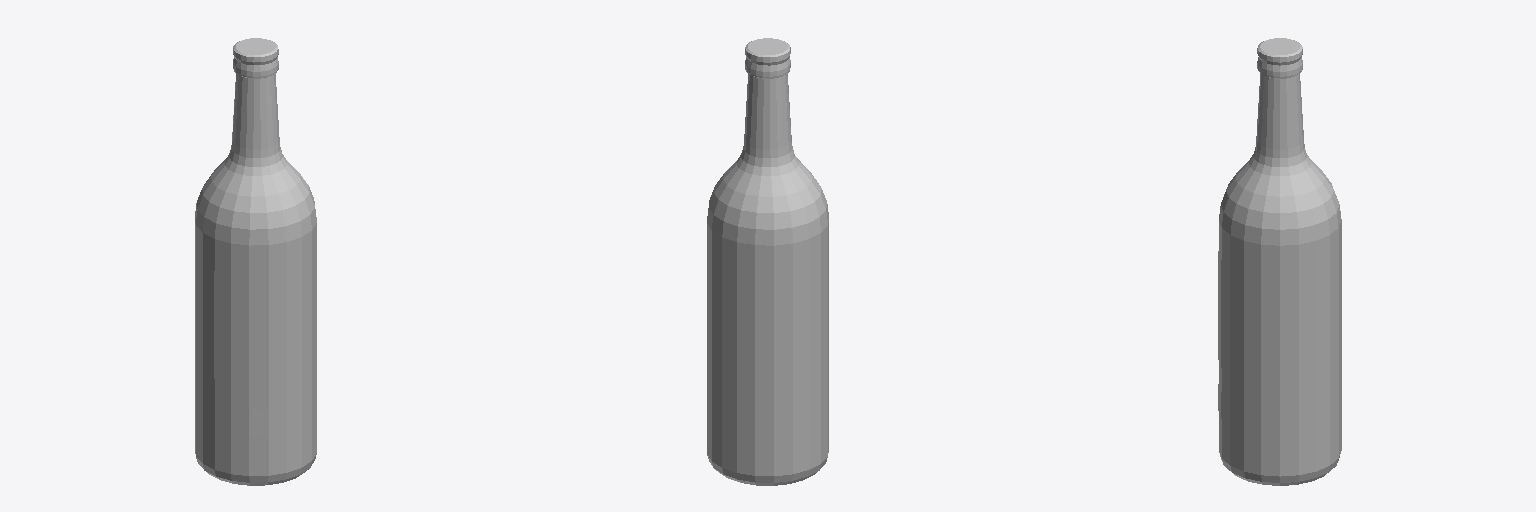
The model's file is wineBottle2.obj.
3 views of the same model, side by side, from view 1: azimuth 30°, elevation 25°; view 2: azimuth 150°, elevation 25°; view 3: azimuth 270°, elevation 25° (orthographic).
Parts seen in each view (by area): view 1: pernod; view 2: pernod; view 3: pernod.
Boxes of the visible parts, box(x1,y1,x2,y2) form: pernod: box(195, 38, 316, 485); pernod: box(707, 38, 828, 485); pernod: box(1218, 38, 1341, 485).
Size of the model in its own units: 0.8 by 3 by 0.8.